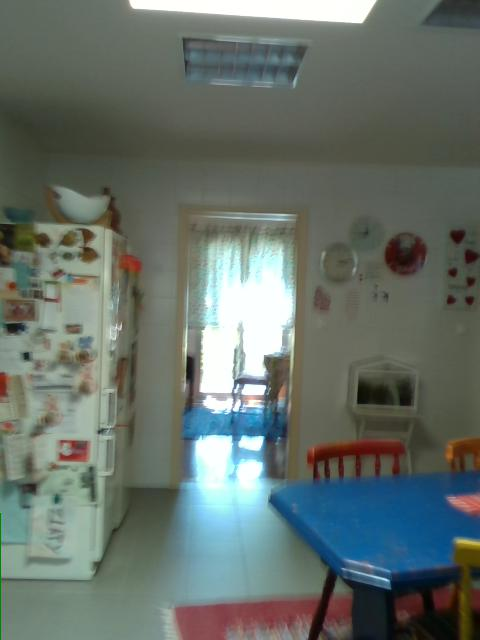open_door: (170, 197, 314, 489)
